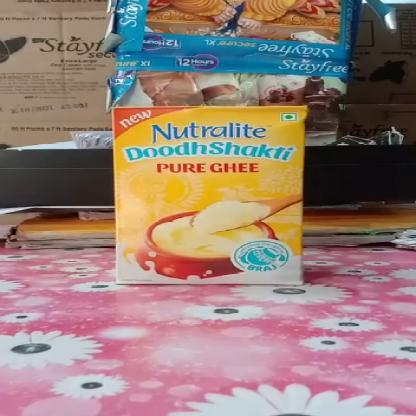Nutralite DOODHSHAKTHI PURE GHEE 1L: (112, 108, 304, 284)
